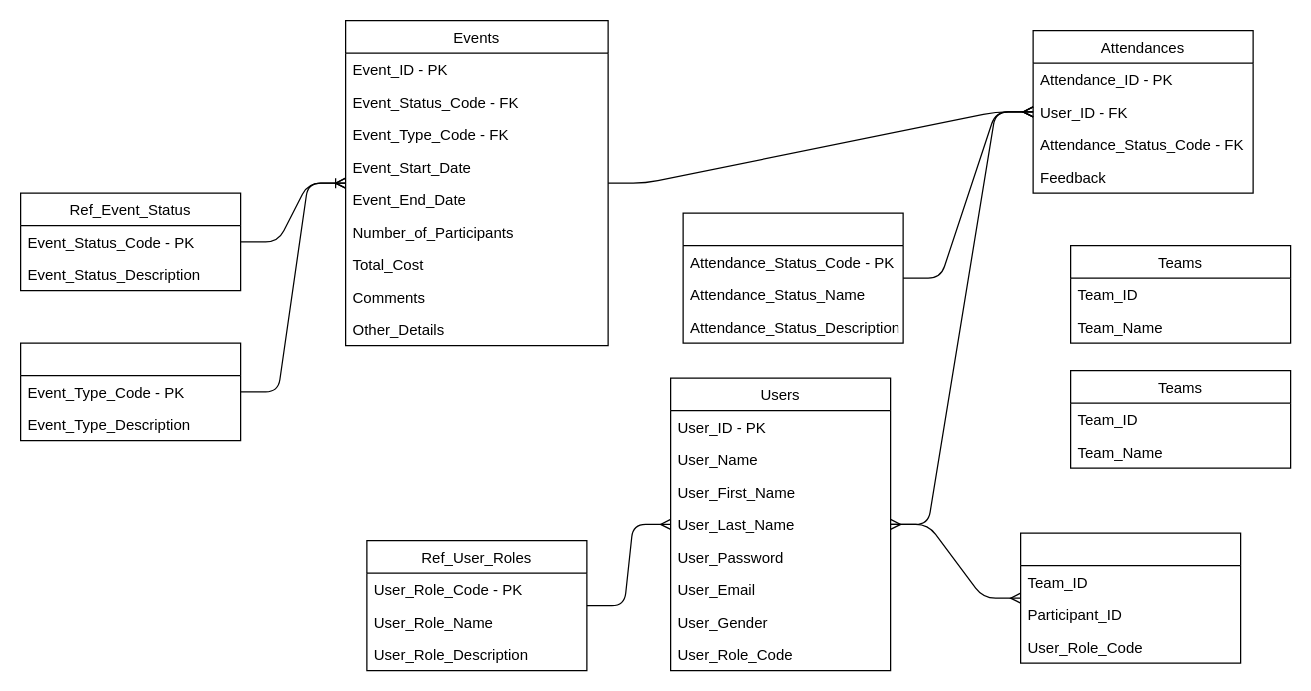
This 1311x691 diagram has some shape labels left out. The box of each missing label's shape, as (x1, y1, x2, y2) in pixels:
has_Teams: (1019, 532, 1241, 663)
Ref_Attendance_Status: (682, 212, 903, 343)
Ref_Event_Types: (19, 342, 241, 441)
